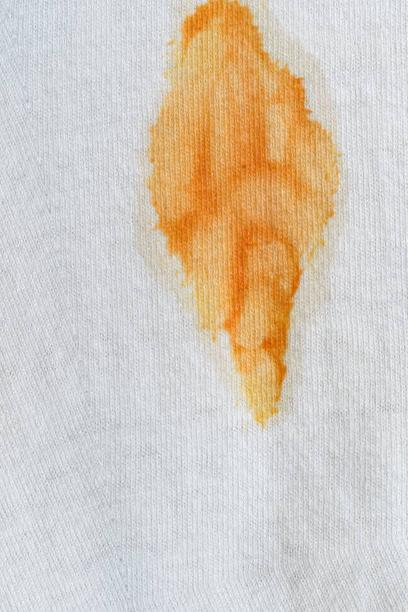stain: (142, 0, 349, 441)
